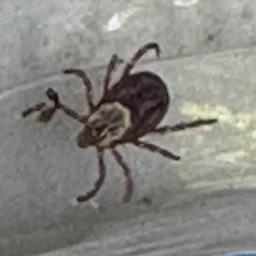Dermacentor variabilis: (21, 43, 218, 205)
